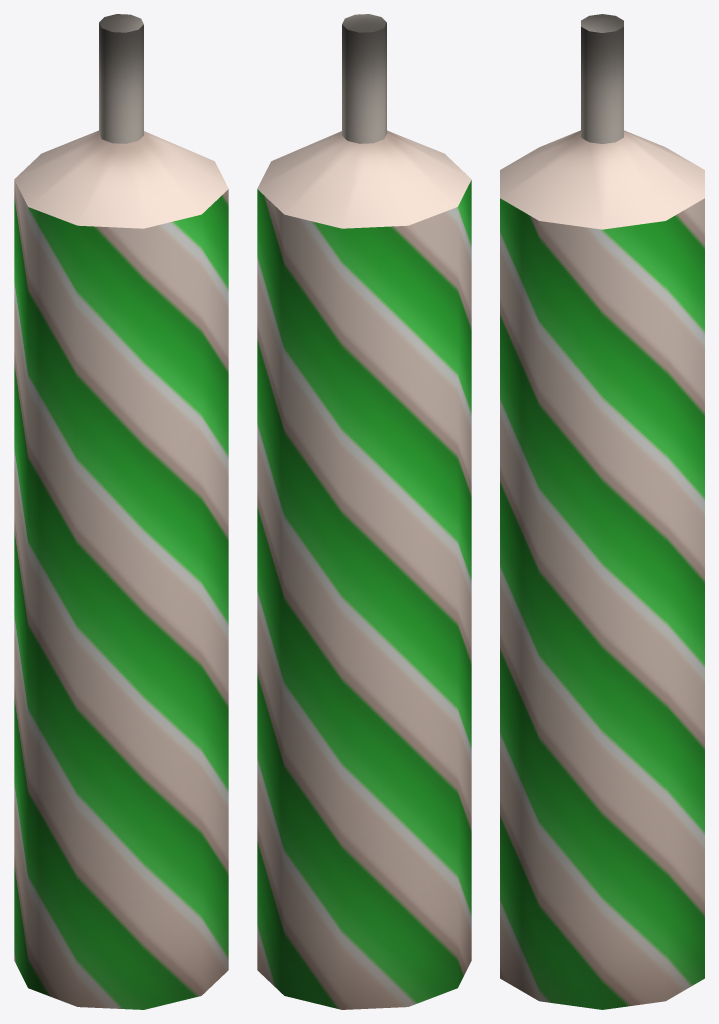
The model's file is Candle_Green.fbx.
3 renders of one model, left to right at view 1: azimuth 30°, elevation 25°; view 2: azimuth 150°, elevation 25°; view 3: azimuth 270°, elevation 25°, orthographic.
Parts seen in each view (by area): view 1: Candle_Green; view 2: Candle_Green; view 3: Candle_Green.
Boxes of the visible parts, box(x1,y1,x2,y2) form: Candle_Green: box(14, 14, 228, 1009); Candle_Green: box(257, 14, 471, 1009); Candle_Green: box(500, 14, 704, 1009).
Bounding box in the file's own units: 4.86 × 23.5 × 4.62.
